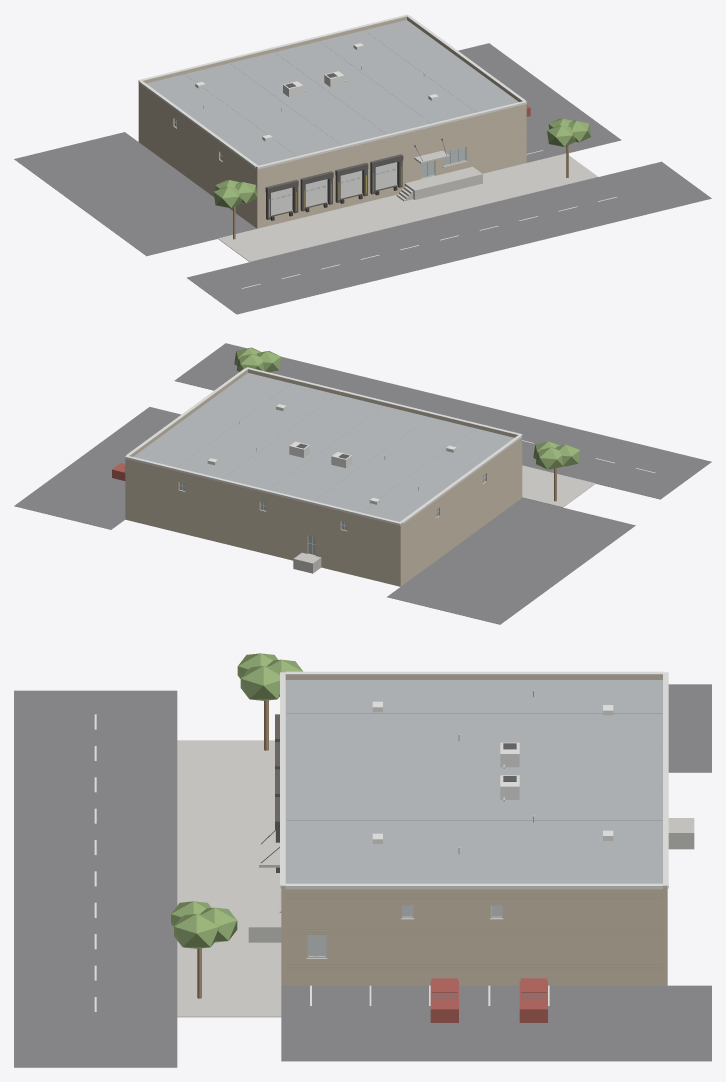
Rendered from clay-cmu-dock-warehouse-clay-v001.glb.
3 renders of one model, top to bottom at view 1: azimuth 30°, elevation 25°; view 2: azimuth 150°, elevation 25°; view 3: azimuth 270°, elevation 25°, orthographic. The views are drawn at different scales.
Visible parts, largest first — view 1: CLAY_ASPHALT, CLAY_MEMBRANE, CLAY_WALL, CLAY_CONCRETE, CLAY_PALE, CLAY_DOCK, CLAY_DOOR, CLAY_PLANTING, CLAY_ROOF, CLAY_GLASS, CLAY_TRIM, CLAY_WHITE; view 2: CLAY_ASPHALT, CLAY_MEMBRANE, CLAY_WALL, CLAY_PALE, CLAY_CONCRETE, CLAY_PLANTING, CLAY_ROOF; view 3: CLAY_ASPHALT, CLAY_MEMBRANE, CLAY_WALL, CLAY_CONCRETE, CLAY_PALE, CLAY_PLANTING, CLAY_JOINT, CLAY_CAR, CLAY_ROOF, CLAY_WHITE, CLAY_GLASS, CLAY_FLOOR (+1 smaller).
Boxes of the visible parts, x1,y1,x2,y2 form: CLAY_ASPHALT: [14, 43, 711, 314]; CLAY_MEMBRANE: [146, 20, 518, 165]; CLAY_WALL: [138, 17, 526, 228]; CLAY_CONCRETE: [218, 150, 597, 261]; CLAY_PALE: [138, 14, 526, 169]; CLAY_DOCK: [265, 154, 403, 219]; CLAY_DOOR: [271, 162, 396, 215]; CLAY_PLANTING: [213, 118, 590, 208]; CLAY_ROOF: [185, 30, 476, 155]; CLAY_GLASS: [174, 119, 465, 200]; CLAY_TRIM: [174, 80, 466, 210]; CLAY_WHITE: [195, 43, 616, 288]; CLAY_ASPHALT: [14, 343, 711, 624]; CLAY_MEMBRANE: [133, 373, 514, 521]; CLAY_WALL: [125, 369, 522, 586]; CLAY_PALE: [125, 367, 522, 525]; CLAY_CONCRETE: [293, 465, 595, 573]; CLAY_PLANTING: [234, 347, 580, 469]; CLAY_ROOF: [176, 383, 474, 512]; CLAY_ASPHALT: [14, 684, 711, 1067]; CLAY_MEMBRANE: [286, 680, 662, 883]; CLAY_WALL: [281, 675, 667, 985]; CLAY_CONCRETE: [177, 740, 694, 1017]; CLAY_PALE: [280, 671, 668, 889]; CLAY_PLANTING: [171, 653, 302, 948]; CLAY_JOINT: [286, 894, 662, 969]; CLAY_CAR: [430, 978, 547, 1022]; CLAY_ROOF: [286, 713, 662, 855]; CLAY_WHITE: [94, 701, 613, 1011]; CLAY_GLASS: [308, 905, 545, 999]; CLAY_FLOOR: [285, 680, 501, 956].
Size of the model in its own units: 61 by 8.07 by 46.99.
